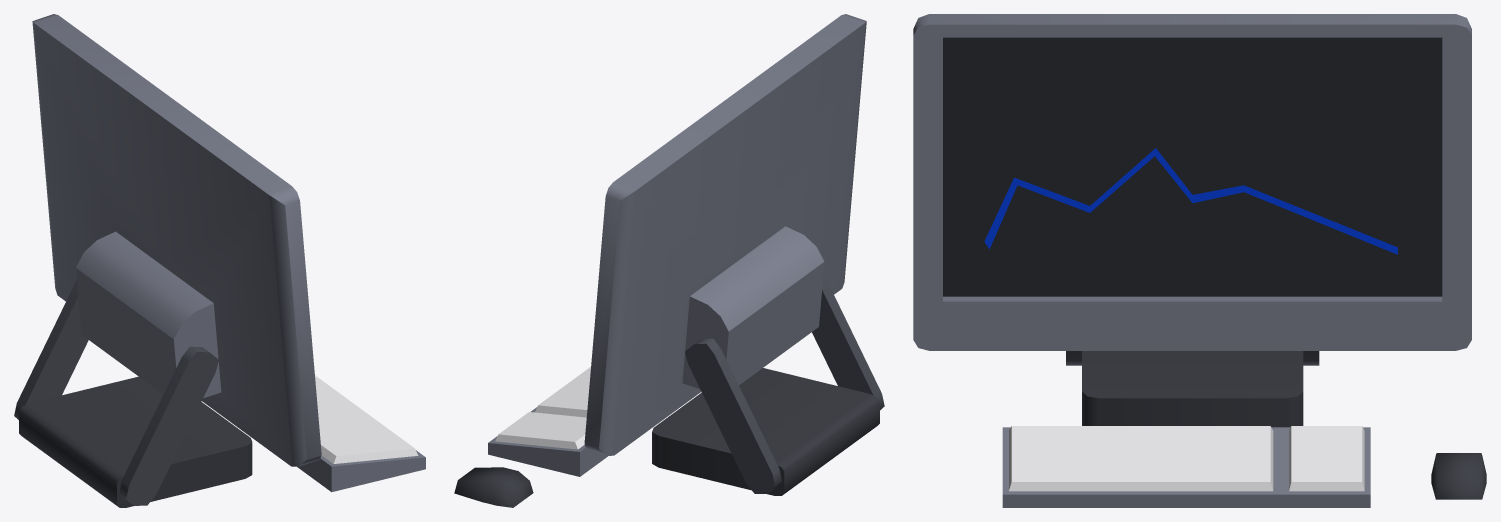
The model's file is NF_Floor_Desk_Computer.fbx.
3 renders of one model, left to right at view 1: azimuth 30°, elevation 25°; view 2: azimuth 150°, elevation 25°; view 3: azimuth 270°, elevation 25°, orthographic. The views are drawn at different scales.
Parts seen in each view (by area): view 1: NF_Floor_Desk_Computer; view 2: NF_Floor_Desk_Computer; view 3: NF_Floor_Desk_Computer.
Part boxes in pixels (box(x1,y1,x2,y2)): NF_Floor_Desk_Computer: box(14, 14, 425, 507); NF_Floor_Desk_Computer: box(454, 14, 884, 507); NF_Floor_Desk_Computer: box(913, 14, 1486, 507).
Bounding box in the file's own units: 0.6125 × 0.7428 × 0.9857.
